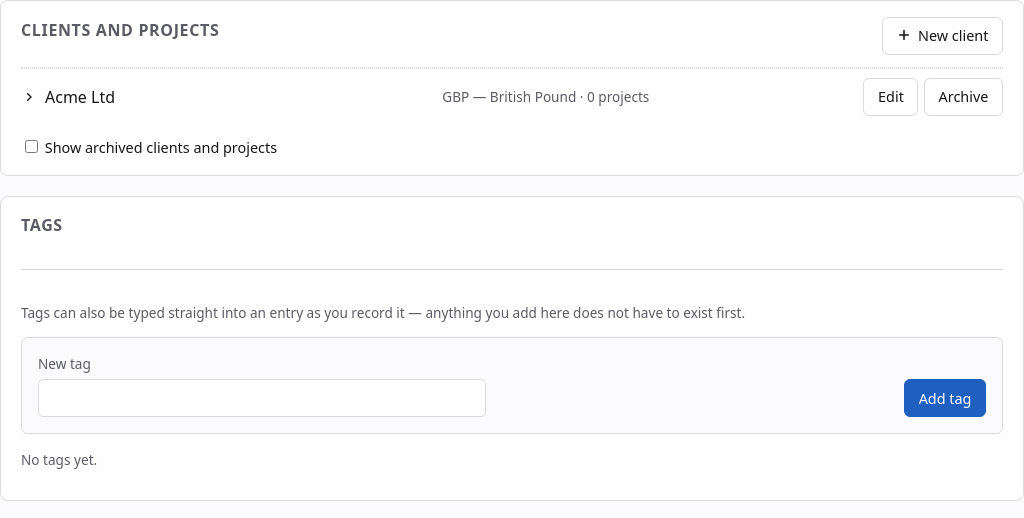
Scenario: no delete, only archive (0005 X1–X3) › round-trips: archive hides it, Restore brings it back (X2)
Click the button "Archive" at (964, 97), box x1=924 y1=78 x2=1003 y2=116
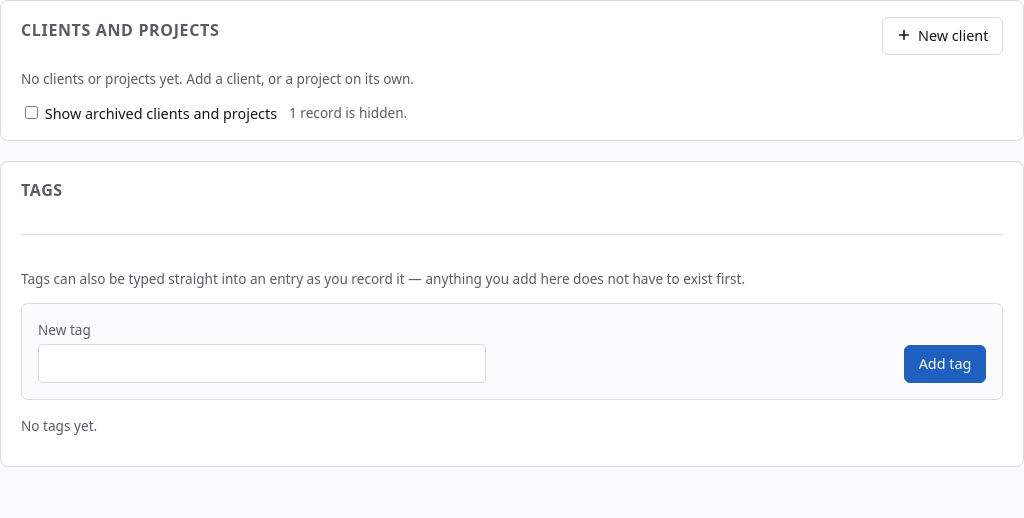
Expected: the button "Acme Ltd" is gone
# Only findable with the archived toggle, which is what makes it recoverable.
Click the checkbox labelled "Show archived clients and projects" at (32, 112), box x1=25 y1=106 x2=38 y2=119
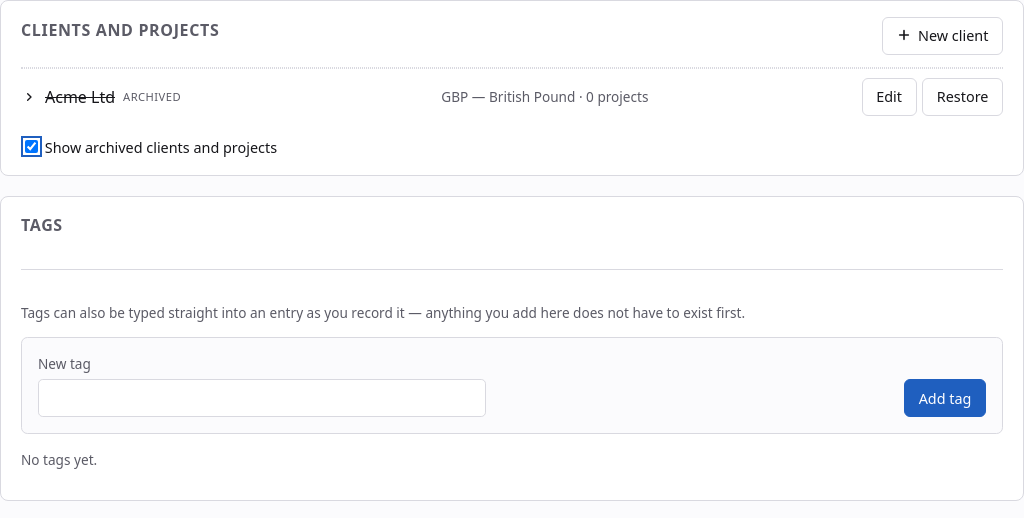
Expected: the text "Acme Ltd" is shown, x1=45 y1=85 x2=115 y2=109
Click the button "Restore" at (963, 97), box x1=922 y1=78 x2=1003 y2=116
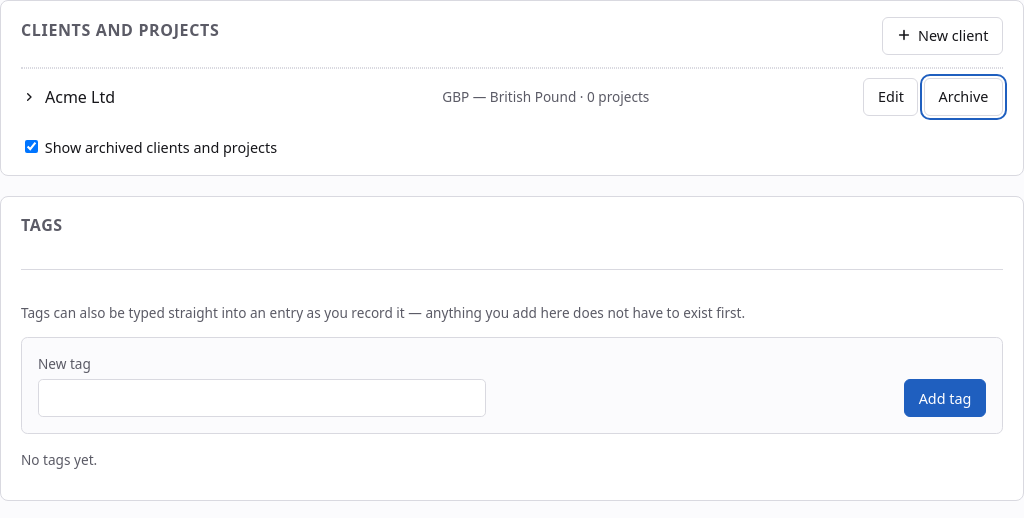
Expected: the text "Acme Ltd" is shown, x1=45 y1=85 x2=115 y2=109
Expected: the button "Archive" is shown, x1=924 y1=78 x2=1003 y2=116
